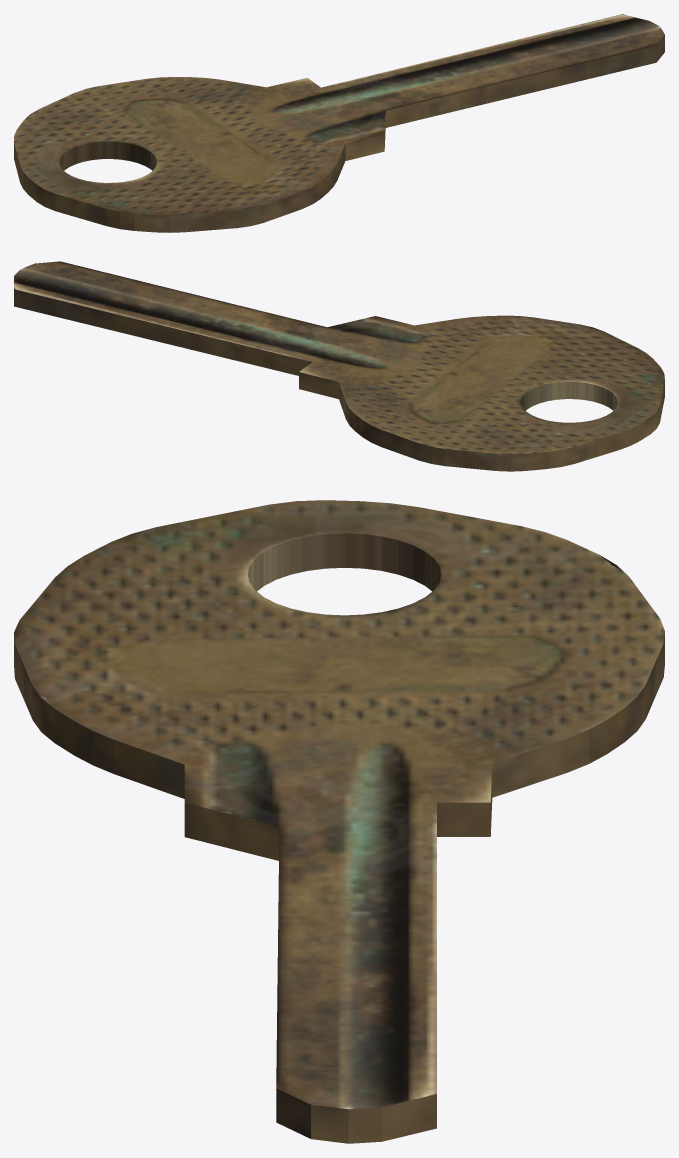
The model's file is Key.fbx.
3 views of the same model, one above another, from view 1: azimuth 30°, elevation 25°; view 2: azimuth 150°, elevation 25°; view 3: azimuth 270°, elevation 25° (orthographic). The views are drawn at different scales.
Visible parts, largest first — view 1: Plane; view 2: Plane; view 3: Plane.
Part boxes in pixels (box(x1,y1,x2,y2)): Plane: box(14, 14, 664, 232); Plane: box(14, 261, 664, 471); Plane: box(14, 500, 664, 1143).
Size of the model in its own units: 18.96 by 0.5 by 8.56.
